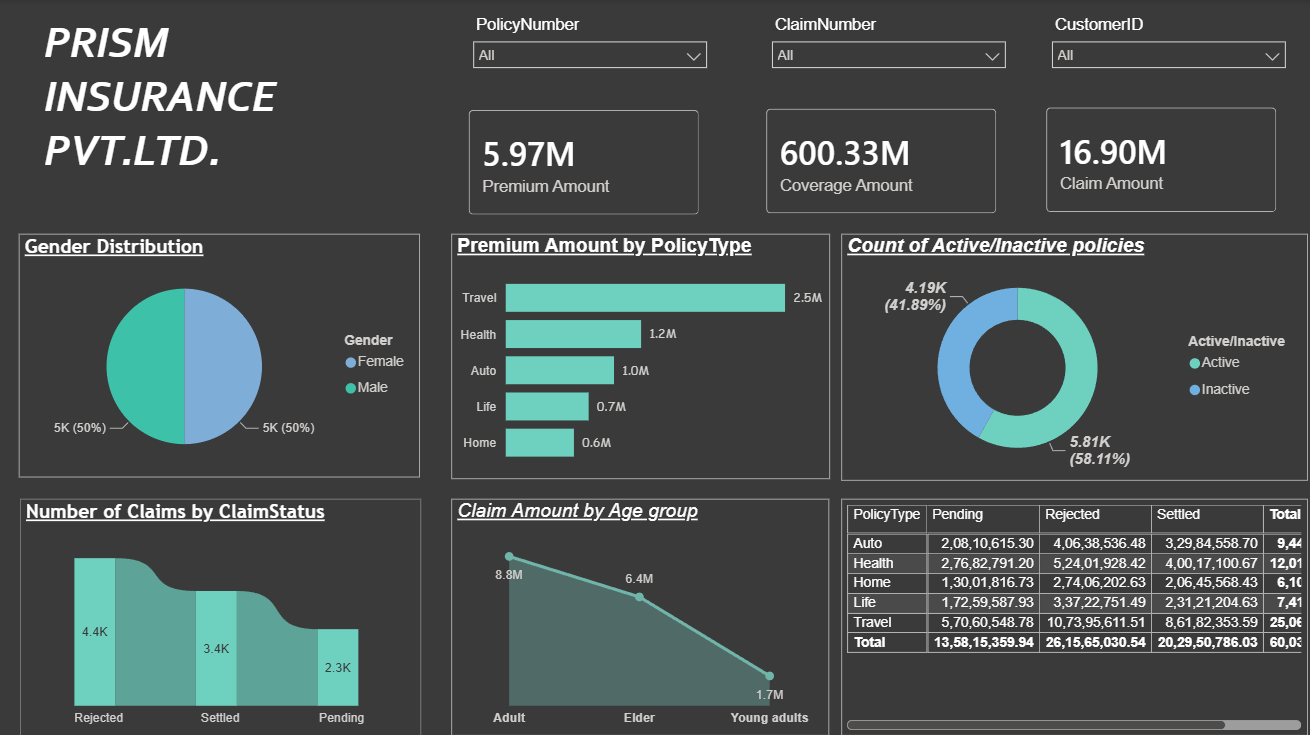

Layout of this report page (visuals, bound fields, positions):
{"tool":"powerbi","page":{"name":"Dashboard","canvas":[1280,720],"ordinal":0},"visuals":[{"type":"slicer","fields":{"Values":["InsuranceData.PolicyNumber"]},"box":[446,9.6,245.6,76.8],"z":0},{"type":"slicer","fields":{"Values":["InsuranceData.ClaimNumber"]},"box":[734.1,9.6,245.6,76.8],"z":1000},{"type":"slicer","fields":{"Values":["InsuranceData.CustomerID"]},"box":[1004.5,9.6,245.6,76.8],"z":2000},{"type":"cardVisual","fields":{"Data":["Sum(InsuranceData.PremiumAmount)"]},"box":[435,89.2,256.6,135.8],"z":3000},{"type":"cardVisual","fields":{"Data":["Sum(InsuranceData.CoverageAmount)"]},"box":[723.2,87.8,256.6,135.8],"z":4000},{"type":"cardVisual","fields":{"Data":["Sum(InsuranceData.ClaimAmount)"]},"box":[993.5,86.4,256.6,135.8],"z":5000},{"type":"textbox","box":[37,9.6,314.2,179.8],"z":6000},{"type":"ribbonChart","title":"Number of  Claims by ClaimStatus","fields":{"Category":["InsuranceData.ClaimStatus"],"Y":["CountNonNull(InsuranceData.ClaimStatus)"]},"box":[19.3,481.4,387.3,229.2],"z":8000},{"type":"barChart","title":"Premium Amount by PolicyType","fields":{"Category":["InsuranceData.PolicyType"],"Y":["Sum(InsuranceData.PremiumAmount)"]},"box":[435.5,225.6,365.6,236.5],"z":9000},{"type":"lineChart","title":"Claim Amount by Age group","fields":{"Category":["InsuranceData.Age group"],"Y":["Sum(InsuranceData.ClaimAmount)"]},"box":[435,481.6,365,229.2],"z":10000},{"type":"donutChart","title":"Count of Active/Inactive policies","fields":{"Category":["InsuranceData.Active/Inactive"],"Y":["CountNonNull(InsuranceData.Active/Inactive)"]},"box":[812.4,225,450.1,238.8],"z":11000},{"type":"pivotTable","fields":{"Values":["Sum(InsuranceData.CoverageAmount)"],"Rows":["InsuranceData.PolicyType"],"Columns":["InsuranceData.ClaimStatus"]},"box":[812.4,481.6,450.1,229.2],"z":12000},{"type":"pieChart","title":"Gender Distribution","fields":{"Category":["InsuranceData.Gender"],"Y":["CountNonNull(InsuranceData.Gender)"]},"box":[18.1,225.6,387.3,235.3],"z":13000}]}

Visuals, with their boxes in screenshot pixels (x1, y1, x2, y2), scaled from the page's 1280x720 canvas onto the 1310x735 screenshot:
slicer - InsuranceData.PolicyNumber: region(456, 10, 708, 88)
slicer - InsuranceData.ClaimNumber: region(751, 10, 1003, 88)
slicer - InsuranceData.CustomerID: region(1028, 10, 1279, 88)
cardVisual - Sum(InsuranceData.PremiumAmount): region(445, 91, 708, 230)
cardVisual - Sum(InsuranceData.CoverageAmount): region(740, 90, 1003, 228)
cardVisual - Sum(InsuranceData.ClaimAmount): region(1017, 88, 1279, 227)
textbox: region(38, 10, 359, 193)
"Number of  Claims by ClaimStatus" ribbonChart: region(20, 491, 416, 725)
"Premium Amount by PolicyType" barChart: region(446, 230, 820, 472)
"Claim Amount by Age group" lineChart: region(445, 492, 819, 726)
"Count of Active/Inactive policies" donutChart: region(831, 230, 1292, 473)
pivotTable - Sum(InsuranceData.CoverageAmount) x InsuranceData.PolicyType: region(831, 492, 1292, 726)
"Gender Distribution" pieChart: region(19, 230, 415, 471)
